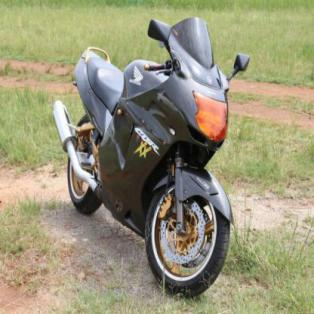Motocicleta: (47, 4, 253, 300)
